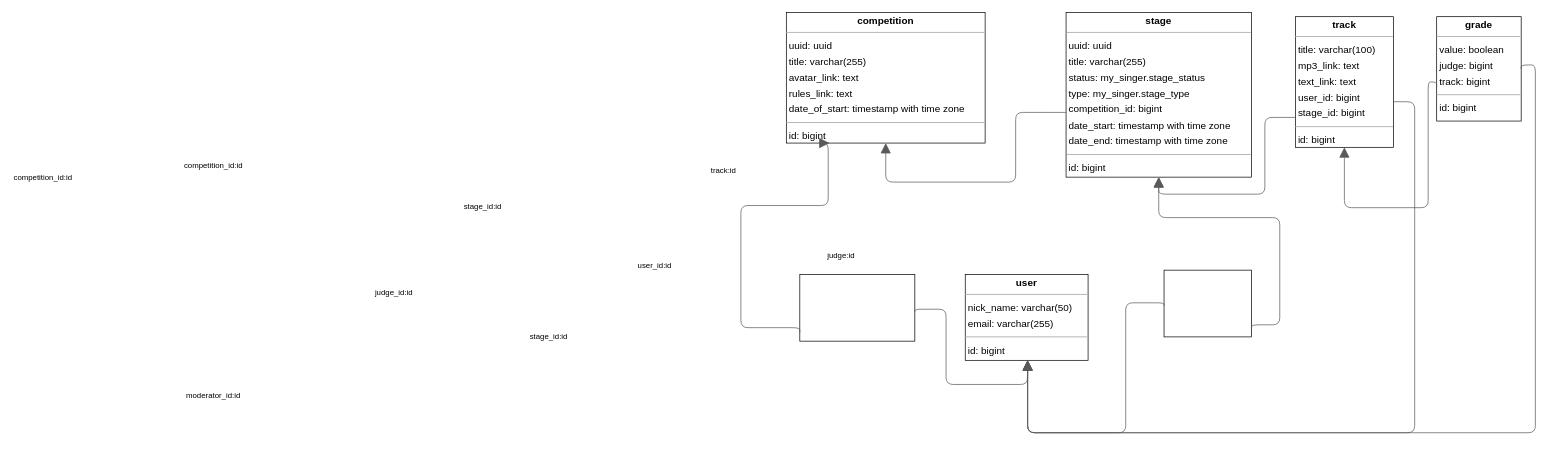
The diagram is 1558 pixels wide and 455 high, and some of its shapes have lost their labels. The shapes that lost their labels are listed below. From the top down, each one's centre as x and y in pixels, then its label:
the point at 857,307: moderator moderator_id: bigint competition_id: bigint
the point at 1207,303: judge judge_id: bigint stage_id: bigint
